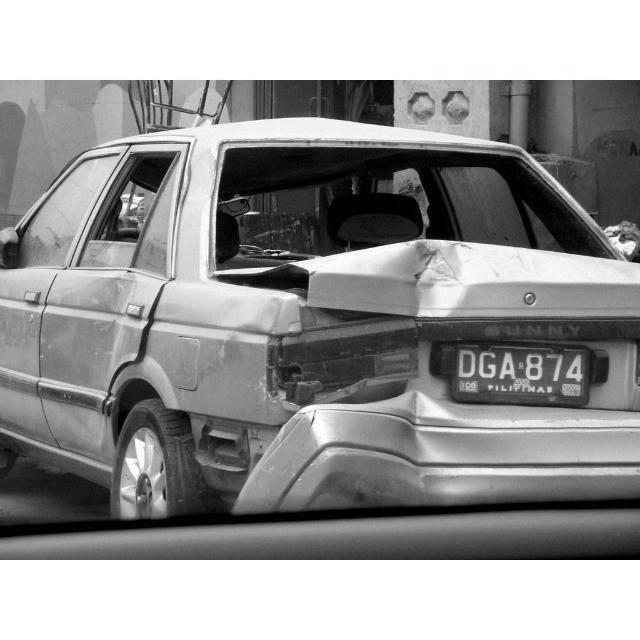Taillight-Damage: (261, 290, 429, 415)
doorouter-dent: (42, 273, 148, 451)
rear-bumper-dent: (217, 405, 640, 530)
